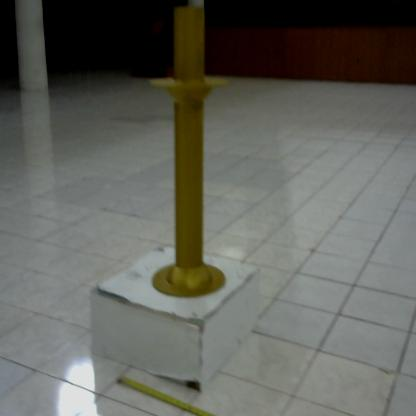pole: (143, 1, 237, 306)
